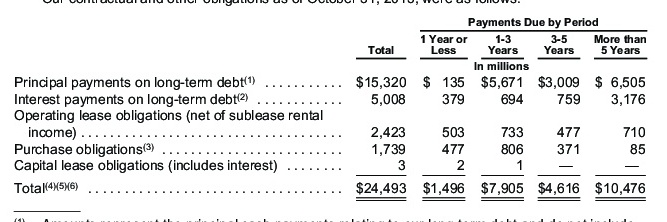table: (0, 0, 667, 222)
